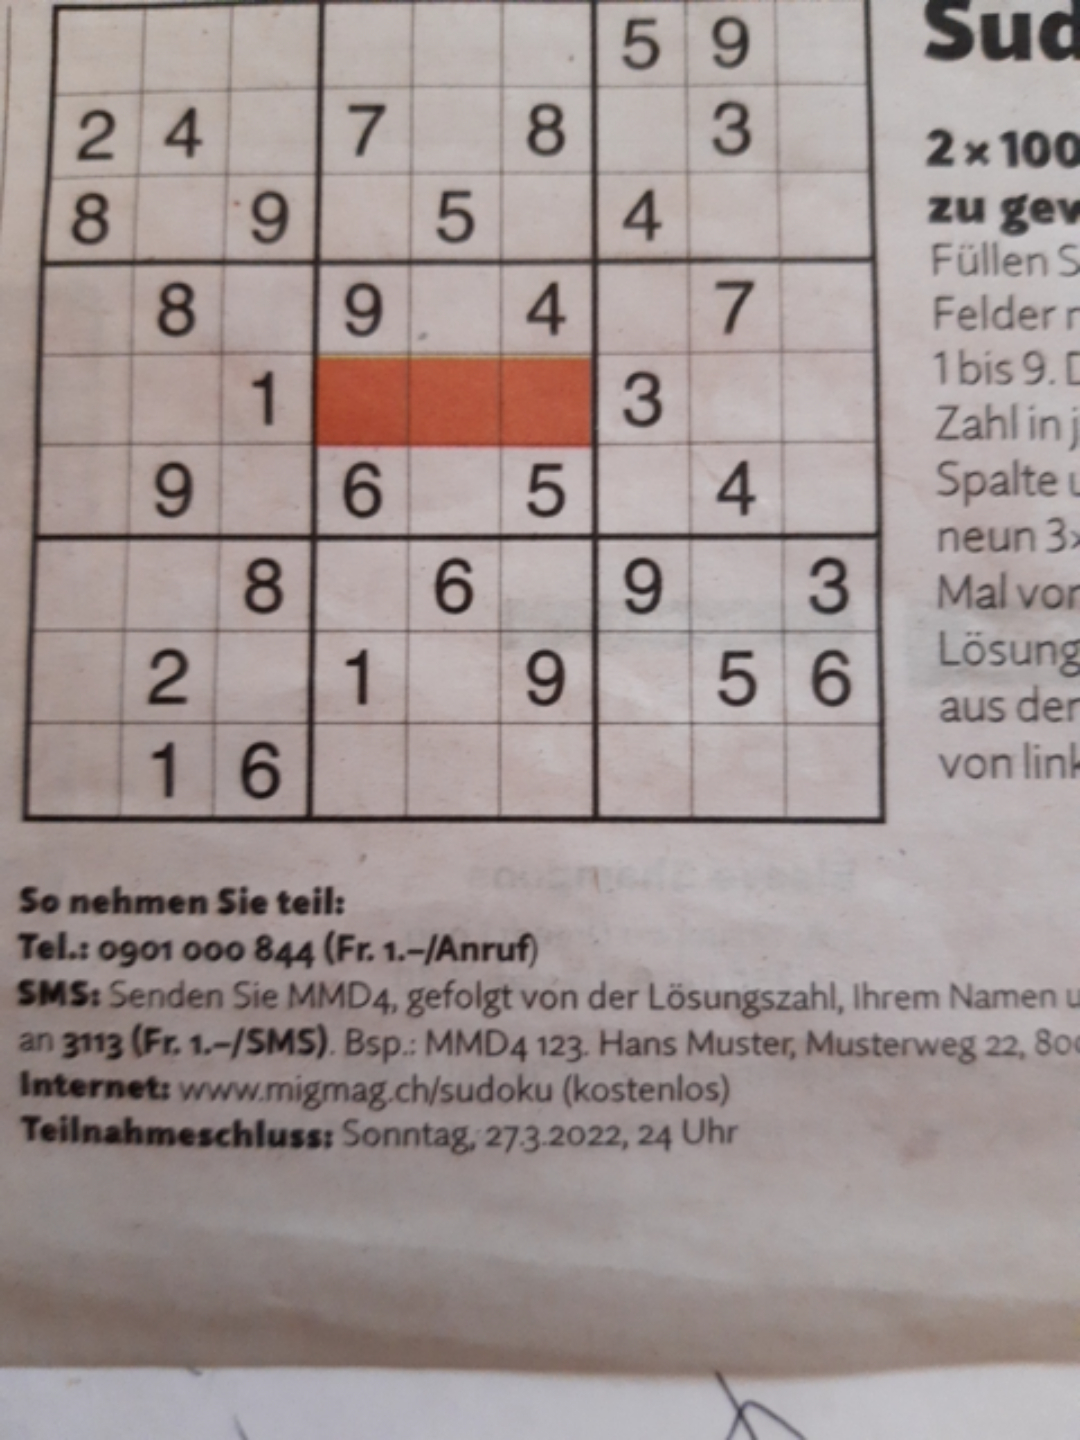sudoku: (19, 2, 886, 832)
